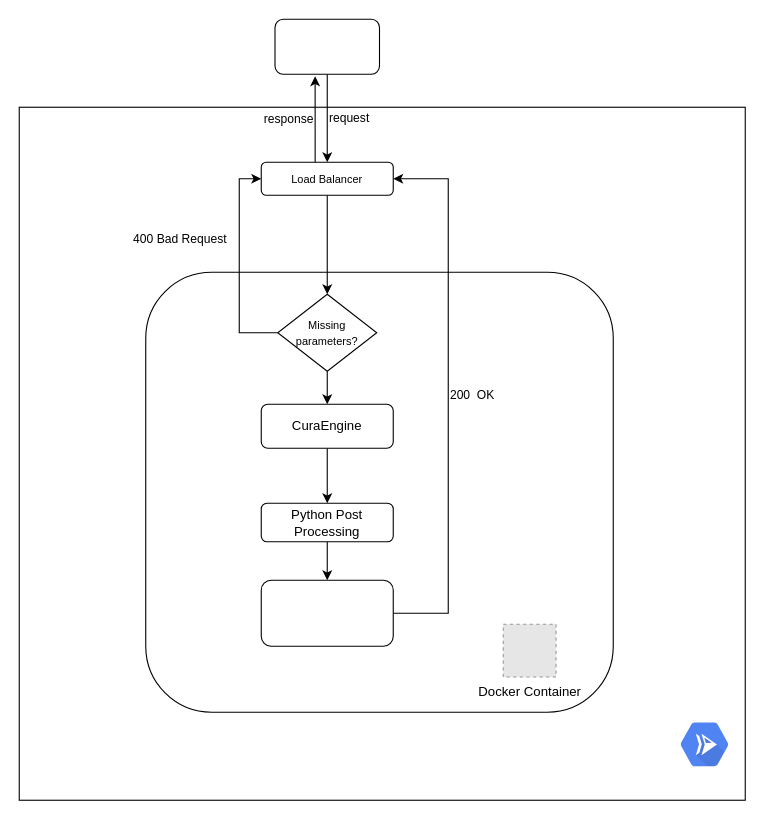
Some shapes in this 765 by 820 pixel diagram are drawn without their labels. Grey dashed boxes stand in for pictures. The box of each missing label's shape, as (x1, y1, x2, y2) in pixels:
Cloud Run: (668, 712, 740, 776)
FrontEnd: (274, 18, 380, 74)
Gcode: (260, 579, 393, 646)
